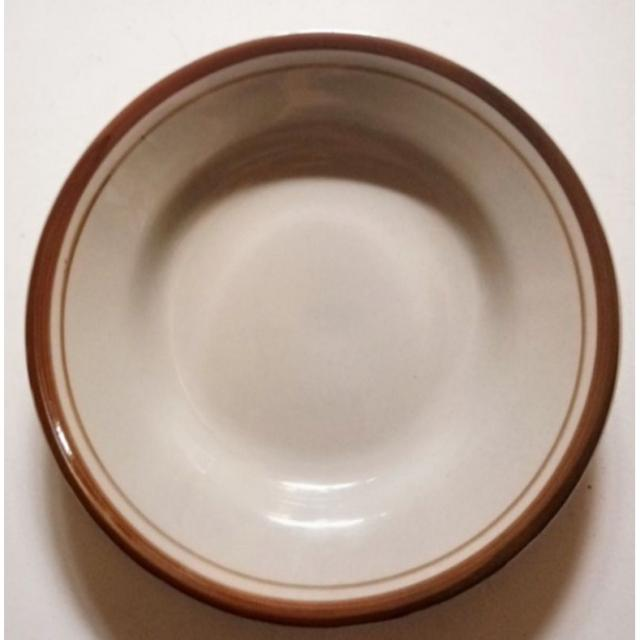Piring: (13, 20, 631, 631)
